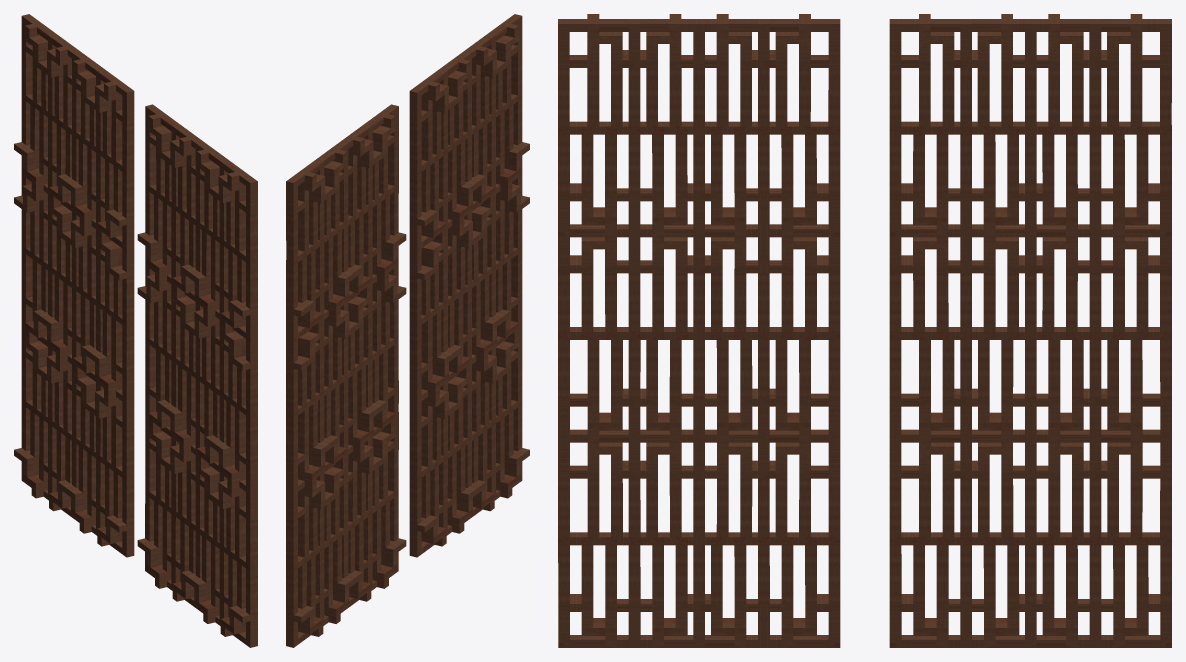
3 views of the same model, side by side, from view 1: azimuth 30°, elevation 25°; view 2: azimuth 150°, elevation 25°; view 3: azimuth 270°, elevation 25° (orthographic). The views are drawn at different scales.
Visible parts, largest first — view 1: 139.001; view 2: 139.001; view 3: 139.001.
Boxes of the visible parts, box(x1,y1,x2,y2) form: 139.001: box(14, 14, 257, 647); 139.001: box(286, 14, 529, 647); 139.001: box(558, 14, 1171, 647).
Bounding box in the file's own units: 1 × 29.25 × 26.08.
1 material, 1 textured.
